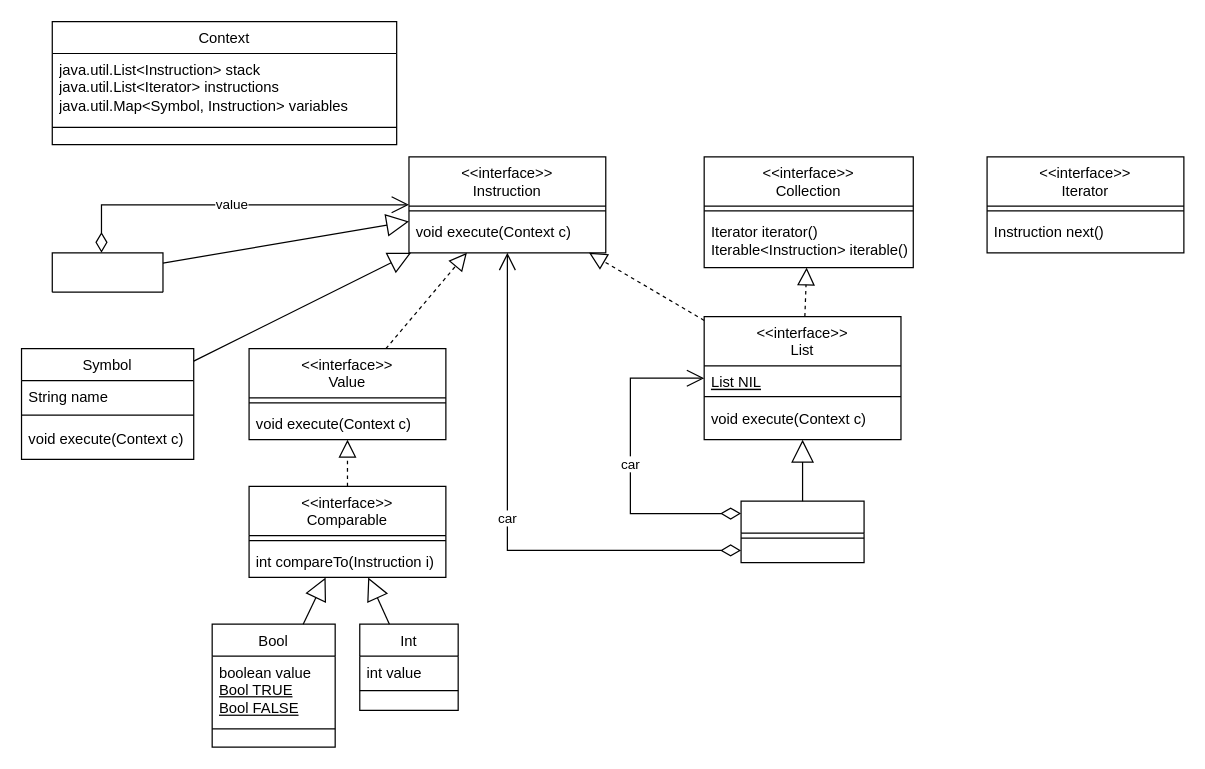
Image size: 1205x769. Some labels were removed from this diagram. Here are the shapes that lost their labels. From the top down, the centre of each, then its label:
At point (107, 272): "Quote".
At point (802, 531): "Cons".
